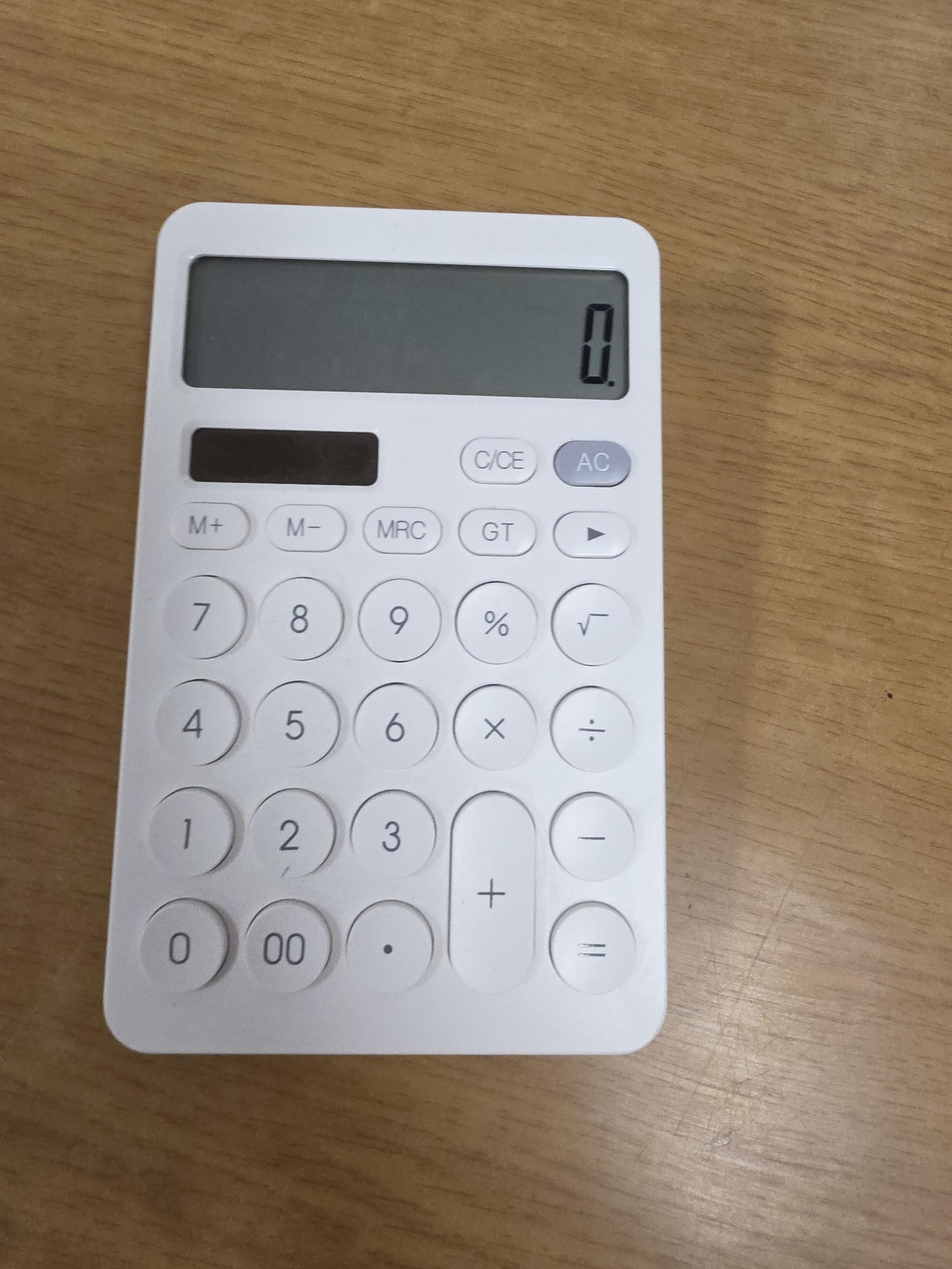calculator: (103, 201, 668, 1055)
